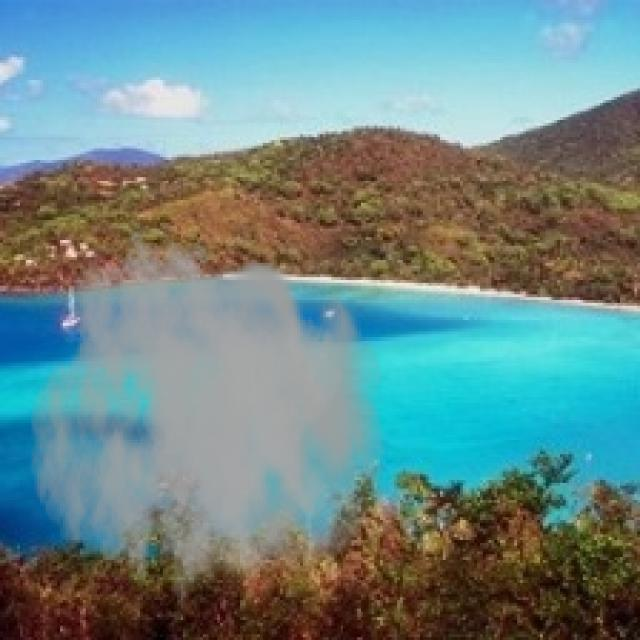Smoke: (28, 226, 386, 628)
